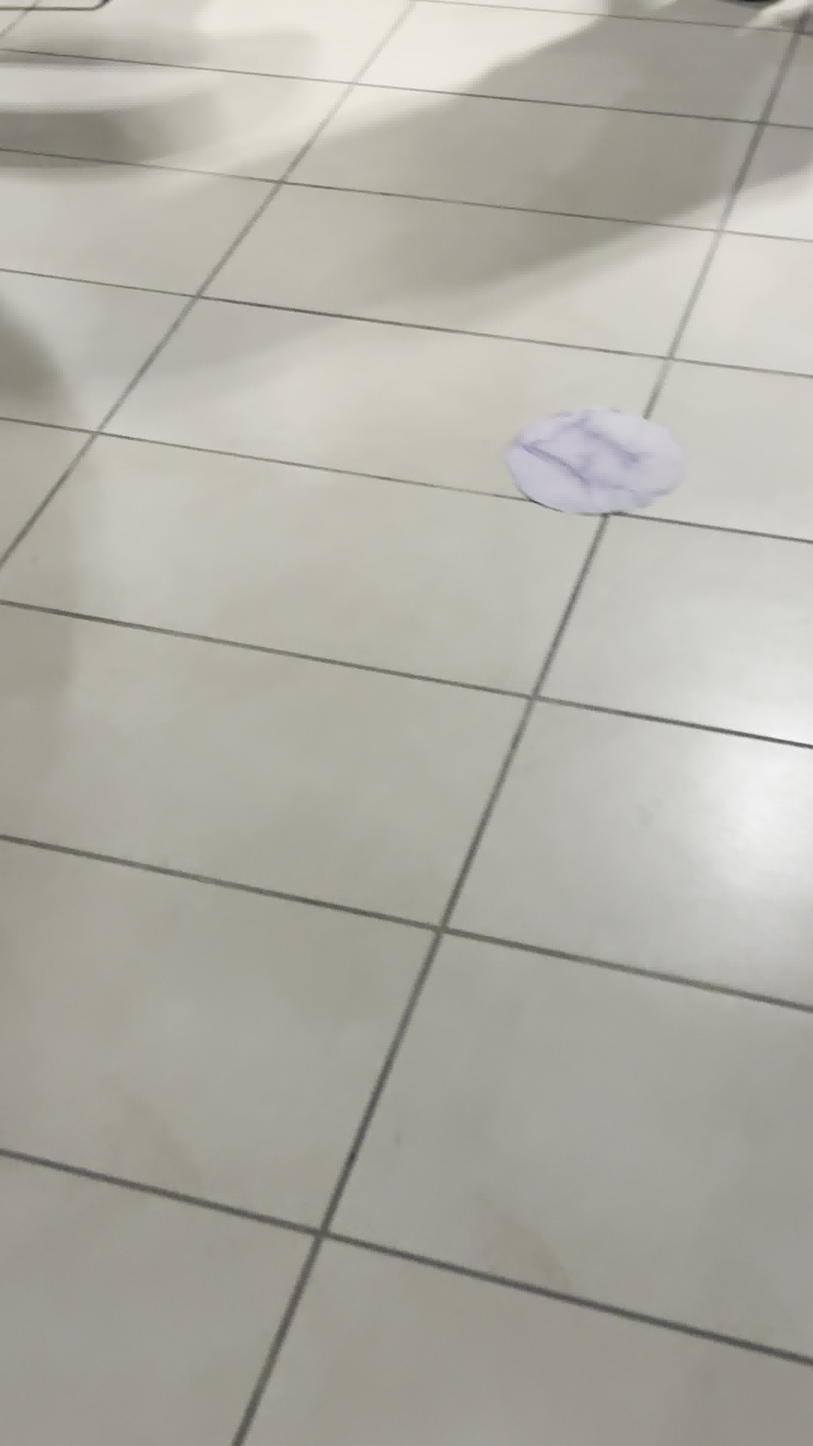Target: (510, 409, 682, 513)
